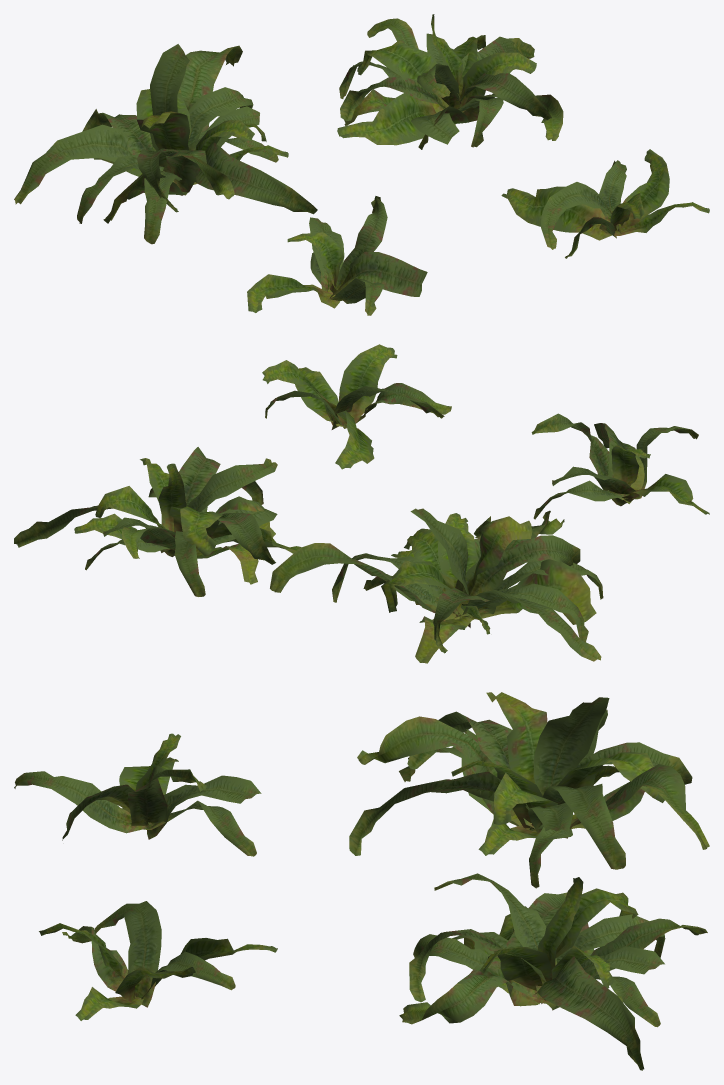
File: fern_02.glb
The picture shows the model from 3 angles, top to bottom: view 1: azimuth 30°, elevation 25°; view 2: azimuth 150°, elevation 25°; view 3: azimuth 270°, elevation 25°; orthographic projection. The views are drawn at different scales.
Visible parts, largest first — view 1: fern_02_b, fern_02_c, fern_02_d, fern_02_a; view 2: fern_02_b, fern_02_c, fern_02_d, fern_02_a; view 3: fern_02_b, fern_02_c, fern_02_a, fern_02_d.
Boxes of the visible parts, x1,y1,x2,y2 form: fern_02_b: [14, 44, 317, 244]; fern_02_c: [337, 14, 563, 149]; fern_02_d: [501, 149, 709, 258]; fern_02_a: [247, 196, 427, 315]; fern_02_b: [270, 508, 603, 663]; fern_02_c: [14, 447, 301, 596]; fern_02_d: [262, 344, 451, 469]; fern_02_a: [531, 413, 709, 519]; fern_02_b: [349, 692, 709, 888]; fern_02_c: [399, 873, 707, 1070]; fern_02_a: [14, 733, 261, 856]; fern_02_d: [39, 901, 277, 1020].
Bounding box in the file's own units: 1.97 × 0.4277 × 1.72.
1 material, 1 textured.
